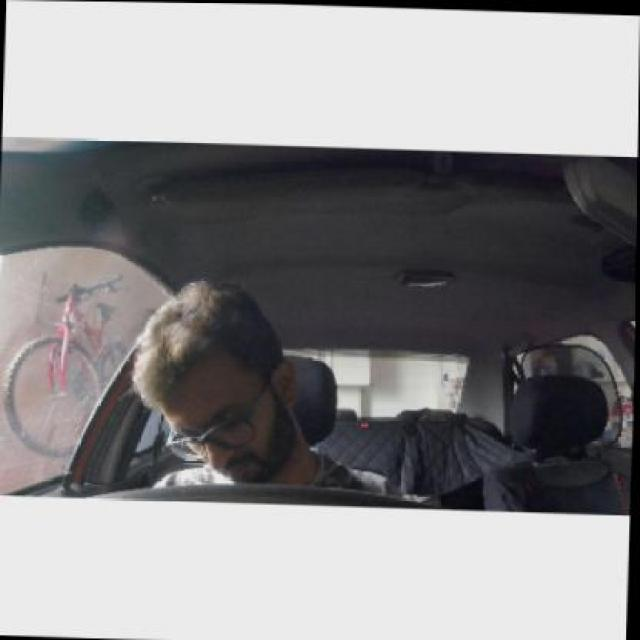drowsy: (127, 274, 311, 488)
